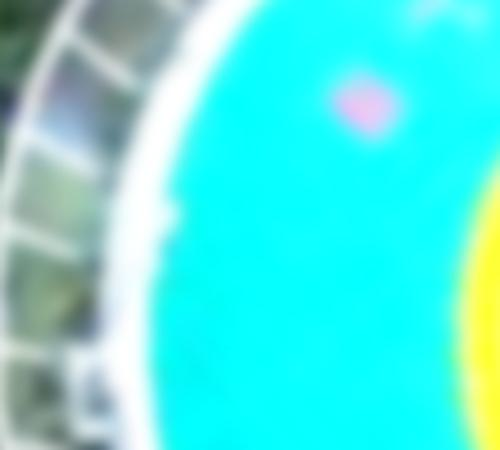Apron: (443, 155, 500, 450)
